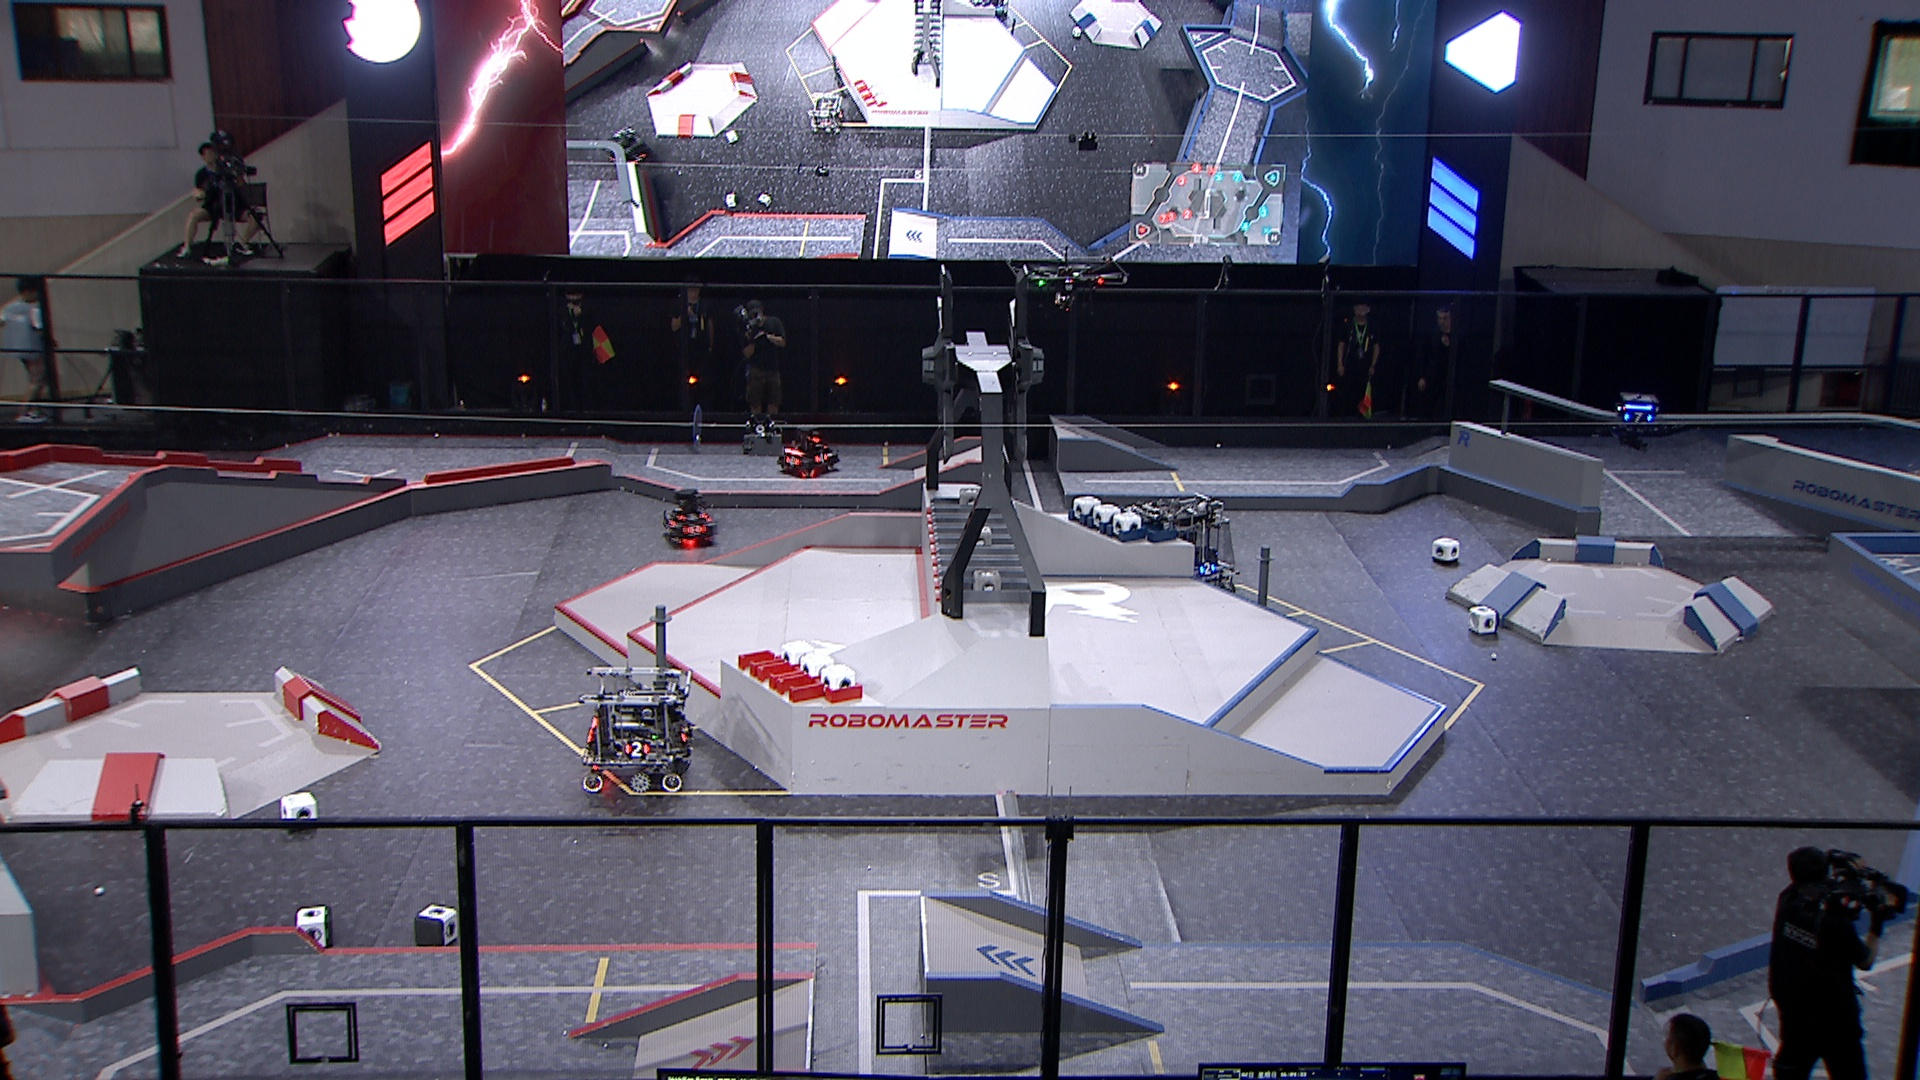armor: (1625, 410, 1652, 425), (626, 742, 650, 756), (686, 524, 705, 535), (1200, 560, 1215, 576), (676, 512, 704, 520), (783, 455, 800, 465), (665, 516, 678, 529), (812, 439, 825, 450), (816, 452, 829, 463)
car: (575, 659, 698, 796), (1116, 491, 1244, 607), (774, 423, 841, 480), (657, 488, 716, 545)
ignore: (599, 128, 647, 166), (807, 90, 847, 131)
watcher: (1611, 386, 1669, 456)
